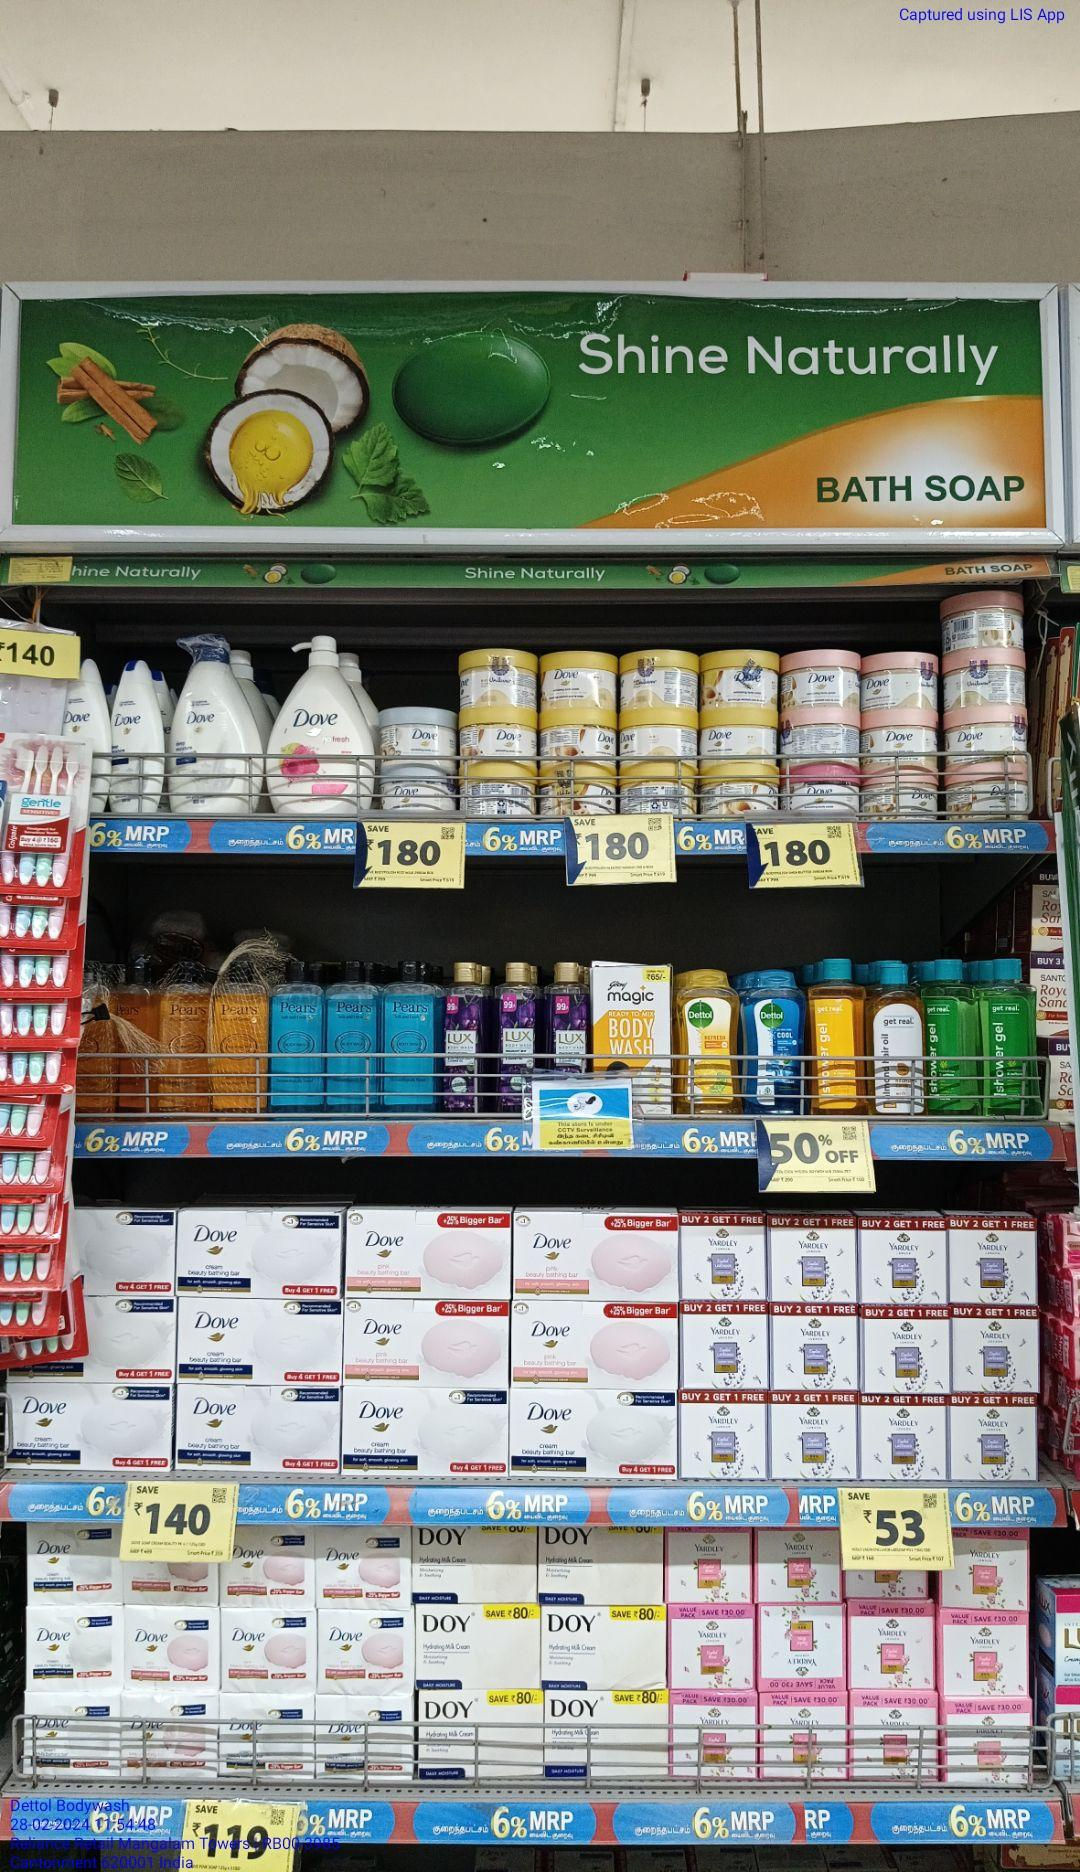Dettol_Bodywash_Cool: (744, 968, 806, 1119)
Dettol_Bodywash_Refresh: (678, 967, 741, 1117)
Lux_Black_Orchid_Scent_and_Juniper_Oil_Body_Wash_245ML: (441, 960, 485, 1116), (498, 959, 540, 1115), (544, 959, 589, 1076)
Pears_Pure_Glycerin_and_Mint_Extracts_Body_Wash_250ML: (325, 958, 379, 1121), (271, 958, 321, 1122), (386, 959, 437, 1119)
